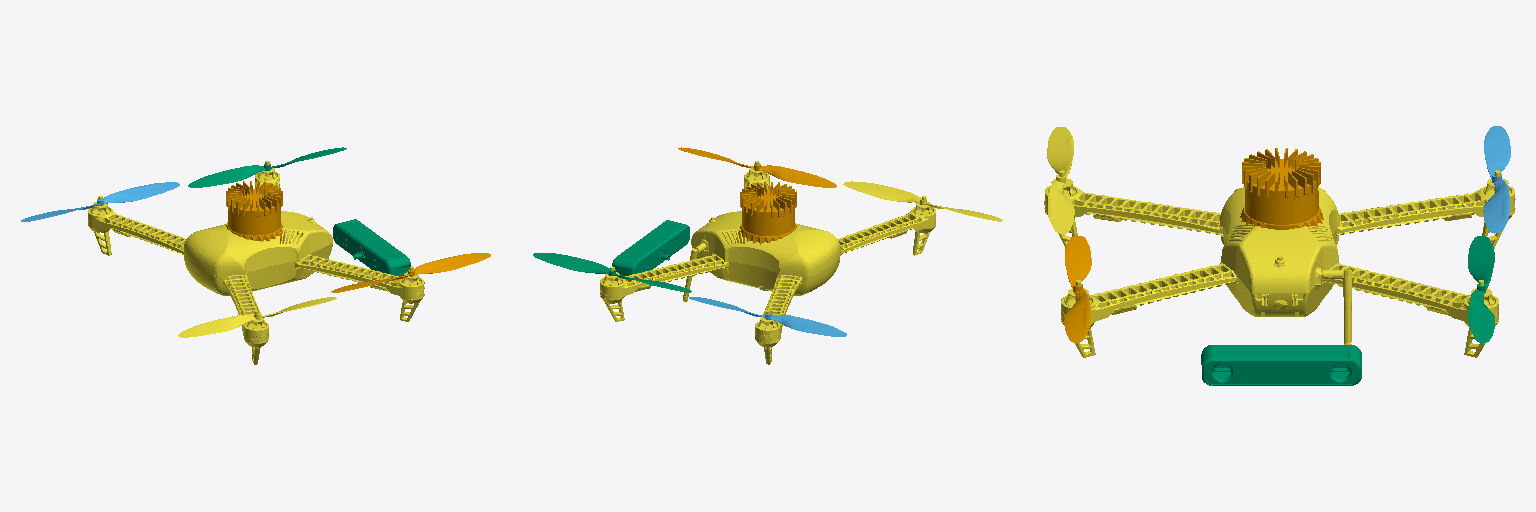
The robot description file, URDF, robot "iris_with_sensors.pegasus.robot":
<?xml version="1.0" encoding="UTF-8"?>
<robot name="iris_with_sensors.pegasus.robot">
  <joint name="DistanceJoint" type="fixed">
    <origin xyz="0. 0. 0." rpy="0. 0. 1.5707872"/>
    <parent link="base_link"/>
    <child link="base_link_body_body_link"/>
  </joint>
  <joint name="OS1_REV6_128_10hz___512_resolution_FixedJoint" type="fixed">
    <origin xyz="0. 0. 0.025" rpy="0. 0. -1.5707872"/>
    <parent link="base_link_body_body_link"/>
    <child link="OS1_REV6_128_10hz___512_resolution"/>
  </joint>
  <joint name="base_link_ZED_X_FixedJoint" type="fixed">
    <origin xyz="0.0 -0.2 -0.05" rpy="0. 0. 0."/>
    <parent link="base_link_body_body_link"/>
    <child link="base_link_ZED_X"/>
  </joint>
  <joint name="joint0" type="fixed">
    <origin xyz="-0.2067341 -0.1375972 0.023 " rpy="0. 0. 0."/>
    <parent link="base_link_body_body_link"/>
    <child link="rotor0"/>
    <axis xyz="0. 0. 1."/>
  </joint>
  <joint name="joint1" type="fixed">
    <origin xyz="0.2186935 0.125002 0.023 " rpy="0. 0. 0."/>
    <parent link="base_link_body_body_link"/>
    <child link="rotor1"/>
    <axis xyz="0. 0. 1."/>
  </joint>
  <joint name="joint2" type="fixed">
    <origin xyz="0.2032209 -0.138307 0.023 " rpy="0. 0. 0."/>
    <parent link="base_link_body_body_link"/>
    <child link="rotor2"/>
    <axis xyz="0. 0. 1."/>
  </joint>
  <joint name="joint3" type="fixed">
    <origin xyz="-0.222 0.1245 0.023 " rpy="0. 0. 0."/>
    <parent link="base_link_body_body_link"/>
    <child link="rotor3"/>
    <axis xyz="0. 0. 1."/>
  </joint>
  <joint name="joint_OS1_REV6_128_10hz___512_resolution-lidar" type="fixed">
    <origin xyz="0. 0. 0.03622" rpy="0 0 1.57"/>
    <parent link="OS1_REV6_128_10hz___512_resolution"/>
    <child link="lidar"/>
  </joint>
  <joint name="joint_base_link_ZED_X-camera_left" type="fixed">
    <origin xyz="0.05994 -0.00909 0.0134 " rpy="-1.5707964 0. -3.1415927"/>
    <parent link="base_link_ZED_X"/>
    <child link="camera_left"/>
  </joint>
  <joint name="joint_base_link_ZED_X-camera_right" type="fixed">
    <origin xyz="-0.05994 -0.00909 0.0134 " rpy="-1.5707964 0. -3.1415927"/>
    <parent link="base_link_ZED_X"/>
    <child link="camera_right"/>
  </joint>
  <joint name="joint_base_link_ZED_X-imu" type="fixed">
    <origin xyz="0.06 0.014058 0.0134 " rpy="0. 0. 0."/>
    <parent link="base_link_ZED_X"/>
    <child link="imu"/>
  </joint>
  <link name="OS1_REV6_128_10hz___512_resolution">
    <visual>
      <origin xyz="0. 0. -0." rpy="1.5707964 0. 1.5707963"/>
      <geometry>
        <mesh filename="package://iris_with_sensors_description/meshes/os1_mesh.obj" scale="1. 1. 1."/>
      </geometry>
    </visual>
    <collision>
      <origin xyz="0. 0. -0." rpy="1.5707964 0. 1.5707963"/>
      <geometry>
        <mesh filename="package://iris_with_sensors_description/meshes/os1_mesh.obj" scale="1. 1. 1."/>
      </geometry>
    </collision>
  </link>
  <link name="base_link"/>
  <link name="base_link_ZED_X">
    <visual>
      <origin xyz="0. 0.0157875 0.0134617" rpy="1.5707964 0. 0. "/>
      <geometry>
        <mesh filename="package://iris_with_sensors_description/meshes/base_link_ZED_X_base_link_ZED_X_ZED_X.obj" scale="1. 1. 1."/>
      </geometry>
    </visual>
    <collision>
      <origin xyz="0. 0.0157875 0.0134617" rpy="1.5707964 0. 0. "/>
      <geometry>
        <mesh filename="package://iris_with_sensors_description/meshes/base_link_ZED_X_base_link_ZED_X_ZED_X.obj" scale="1. 1. 1."/>
      </geometry>
    </collision>
  </link>
  <link name="base_link_body_body_link">
    <visual>
      <origin xyz="0. 0. 0." rpy="0. 0. 0."/>
      <geometry>
        <mesh filename="package://iris_with_sensors_description/meshes/base_link_body_body.obj" scale="1. 1. 1."/>
      </geometry>
    </visual>
    <collision>
      <origin xyz="0. 0. 0." rpy="0. 0. 0."/>
      <geometry>
        <mesh filename="package://iris_with_sensors_description/meshes/base_link_body_body.obj" scale="1. 1. 1."/>
      </geometry>
    </collision>
  </link>
  <link name="camera_left"/>
  <link name="camera_right"/>
  <link name="imu"/>
  <link name="lidar"/>
  <link name="rotor0">
    <visual>
      <origin xyz="0.0005641 -0.0042183 0. " rpy="0. 0. 0.0000089"/>
      <geometry>
        <mesh filename="package://iris_with_sensors_description/meshes/rotor0_iris_prop_ccw.obj" scale="1. 1. 1."/>
      </geometry>
    </visual>
    <collision>
      <origin xyz="0.0005641 -0.0042183 0. " rpy="0. 0. 0.0000089"/>
      <geometry>
        <mesh filename="package://iris_with_sensors_description/meshes/rotor0_iris_prop_ccw.obj" scale="1. 1. 1."/>
      </geometry>
    </collision>
  </link>
  <link name="rotor1">
    <visual>
      <origin xyz="0.0002835 -0.0040079 0. " rpy="0. 0. 0.0000089"/>
      <geometry>
        <mesh filename="package://iris_with_sensors_description/meshes/rotor1_iris_prop_ccw.obj" scale="1. 1. 1."/>
      </geometry>
    </visual>
    <collision>
      <origin xyz="0.0002835 -0.0040079 0. " rpy="0. 0. 0.0000089"/>
      <geometry>
        <mesh filename="package://iris_with_sensors_description/meshes/rotor1_iris_prop_ccw.obj" scale="1. 1. 1."/>
      </geometry>
    </collision>
  </link>
  <link name="rotor2">
    <visual>
      <origin xyz="-0.0006439 -0.0006316 0. " rpy="0. 0. 0.0000089"/>
      <geometry>
        <mesh filename="package://iris_with_sensors_description/meshes/rotor2_iris_prop_cw.obj" scale="1. 1. 1."/>
      </geometry>
    </visual>
    <collision>
      <origin xyz="-0.0006439 -0.0006316 0. " rpy="0. 0. 0.0000089"/>
      <geometry>
        <mesh filename="package://iris_with_sensors_description/meshes/rotor2_iris_prop_cw.obj" scale="1. 1. 1."/>
      </geometry>
    </collision>
  </link>
  <link name="rotor3">
    <visual>
      <origin xyz="-0.0020179 -0.0013155 -0.0001005" rpy="0. 0. 0.0000089"/>
      <geometry>
        <mesh filename="package://iris_with_sensors_description/meshes/rotor3_iris_prop_cw.obj" scale="1. 1. 1."/>
      </geometry>
    </visual>
    <collision>
      <origin xyz="-0.0020179 -0.0013155 -0.0001005" rpy="0. 0. 0.0000089"/>
      <geometry>
        <mesh filename="package://iris_with_sensors_description/meshes/rotor3_iris_prop_cw.obj" scale="1. 1. 1."/>
      </geometry>
    </collision>
  </link>
</robot>

--- Facts derived from the render (not from the file) ---
Views: 3 orthographic renders of the robot side by side, from view 1: azimuth 30°, elevation 25°; view 2: azimuth 150°, elevation 25°; view 3: azimuth 270°, elevation 25°.
Robot: iris_with_sensors.pegasus.robot — 12 links, 11 joints (11 fixed); root link base_link; default pose: every joint at zero.
Visible links, largest first — view 1: base_link_body_body_link, OS1_REV6_128_10hz___512_resolution, base_link_ZED_X, rotor0, rotor3, rotor1, rotor2; view 2: base_link_body_body_link, OS1_REV6_128_10hz___512_resolution, base_link_ZED_X, rotor2, rotor3, rotor0, rotor1; view 3: base_link_body_body_link, base_link_ZED_X, OS1_REV6_128_10hz___512_resolution, rotor2, rotor0, rotor1, rotor3.
Boxes of the visible links, x1=… form: base_link_body_body_link: x1=88, y1=161, x2=424, y2=364; OS1_REV6_128_10hz___512_resolution: x1=226, y1=181, x2=284, y2=243; base_link_ZED_X: x1=333, y1=219, x2=410, y2=276; rotor0: x1=331, y1=253, x2=490, y2=292; rotor3: x1=178, y1=297, x2=336, y2=337; rotor1: x1=21, y1=182, x2=179, y2=221; rotor2: x1=188, y1=147, x2=346, y2=187; base_link_body_body_link: x1=600, y1=161, x2=935, y2=364; OS1_REV6_128_10hz___512_resolution: x1=738, y1=181, x2=796, y2=244; base_link_ZED_X: x1=612, y1=220, x2=689, y2=275; rotor2: x1=533, y1=253, x2=691, y2=292; rotor3: x1=843, y1=181, x2=1002, y2=221; rotor0: x1=678, y1=147, x2=836, y2=187; rotor1: x1=689, y1=297, x2=846, y2=336; base_link_body_body_link: x1=1044, y1=170, x2=1515, y2=357; base_link_ZED_X: x1=1201, y1=345, x2=1361, y2=385; OS1_REV6_128_10hz___512_resolution: x1=1240, y1=148, x2=1323, y2=237; rotor2: x1=1468, y1=236, x2=1494, y2=342; rotor0: x1=1064, y1=235, x2=1091, y2=342; rotor1: x1=1483, y1=126, x2=1510, y2=233; rotor3: x1=1047, y1=127, x2=1074, y2=233.
Size in the robot's own frame: 0.5213 by 0.4777 by 0.1655 metres.
Meshes: 7 distinct files referenced, 7 mesh visuals loaded (7 OBJ).